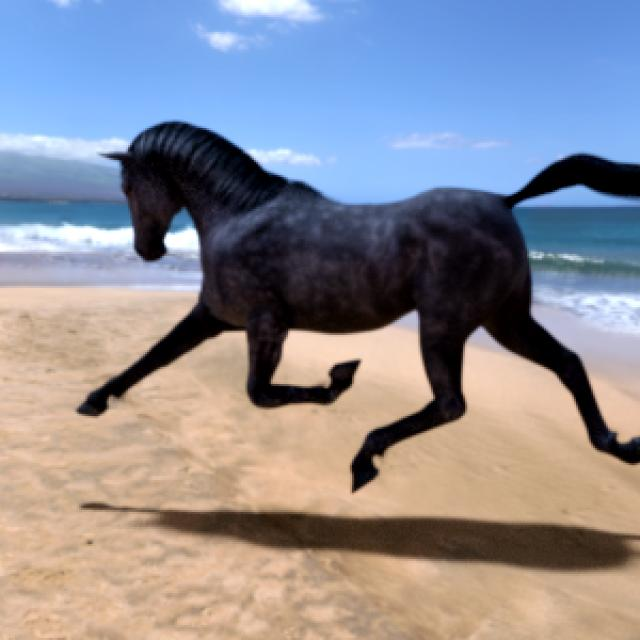horse: (79, 122, 640, 489)
